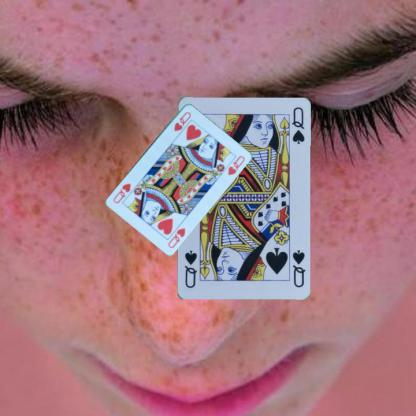Qh: (165, 225, 187, 249), (171, 109, 192, 132)
Qs: (290, 247, 306, 288)
